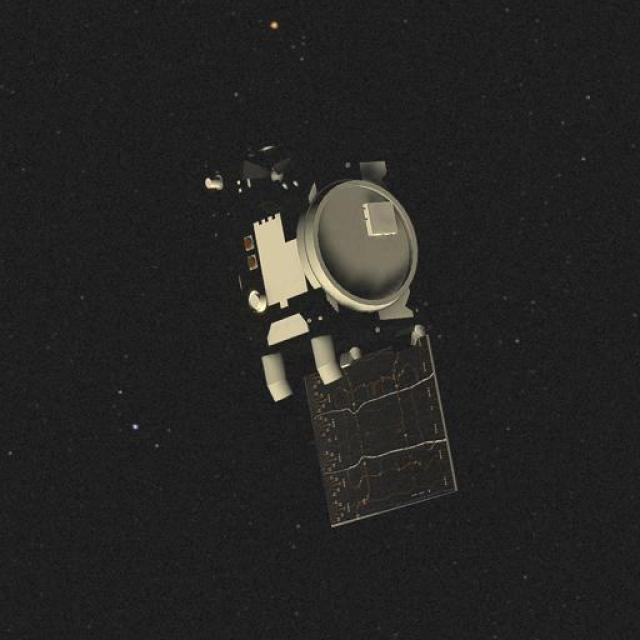proba_3_csc: (196, 135, 476, 546)
